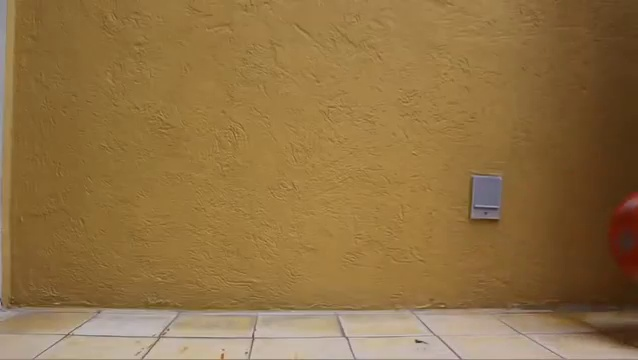ball: (607, 191, 638, 291)
